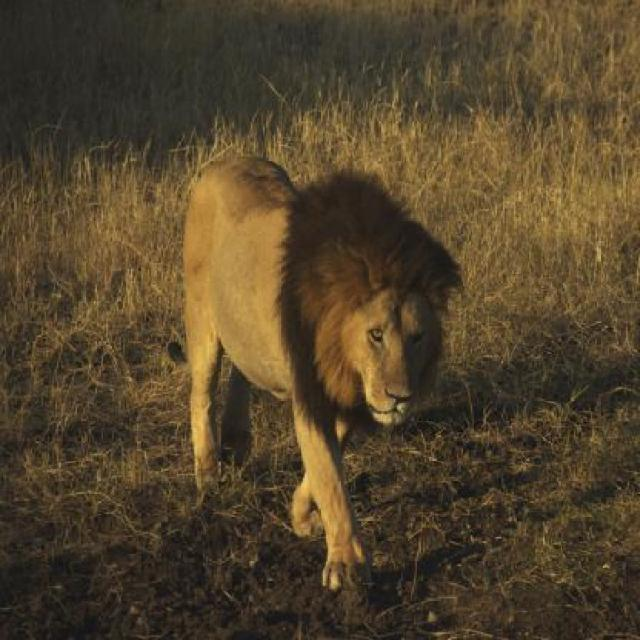Lion: (145, 143, 469, 605)
